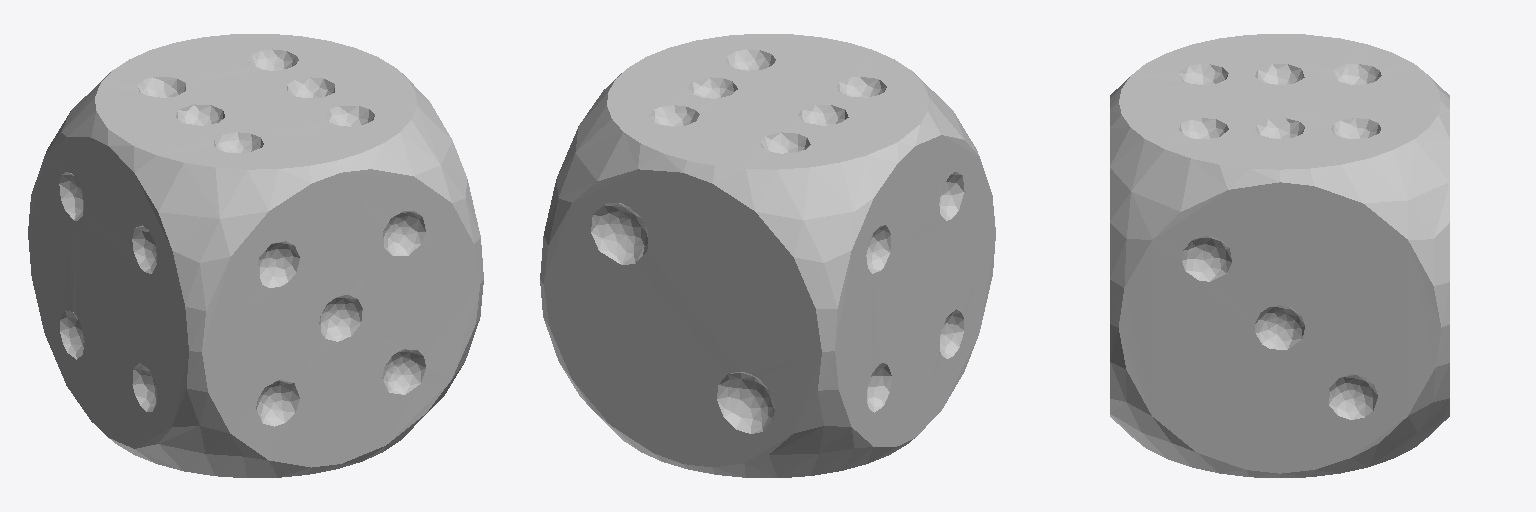
The model's file is dice_lowpoly.obj.
3 renders of one model, left to right at view 1: azimuth 30°, elevation 25°; view 2: azimuth 150°, elevation 25°; view 3: azimuth 270°, elevation 25°, orthographic.
Visible parts, largest first — view 1: dice_Cube.001; view 2: dice_Cube.001; view 3: dice_Cube.001.
Part boxes in pixels (x1,y1,x2,y2): dice_Cube.001: (28, 34, 483, 477); dice_Cube.001: (540, 34, 995, 477); dice_Cube.001: (1110, 34, 1449, 477).
Size of the model in its own units: 2 by 2 by 2.